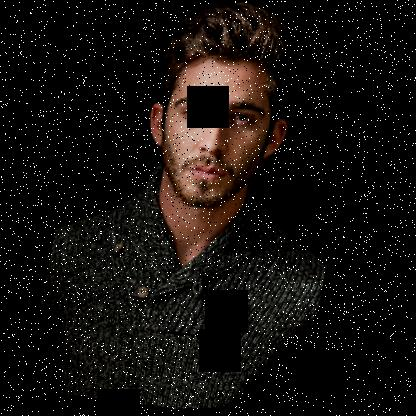Male: (134, 49, 301, 221)
